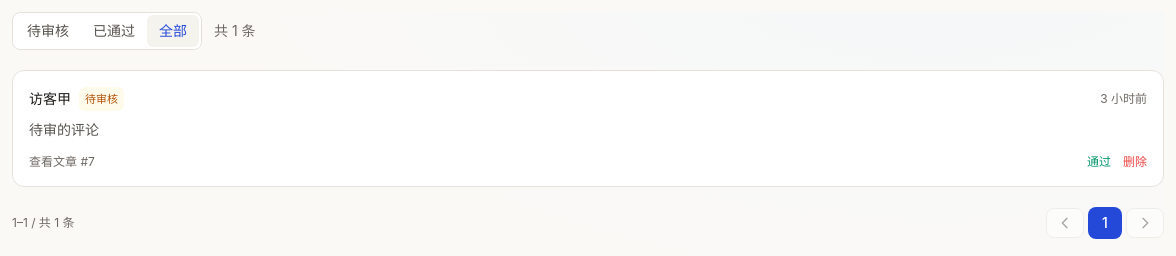
Scenario: CommentListView · 审核状态流转 › 待审 → 通过：moderate(id, true) + 「已通过」+ 刷新列表后行上变「撤下」
Click the button "通过" at (1099, 162), box [1087,154,1111,170]
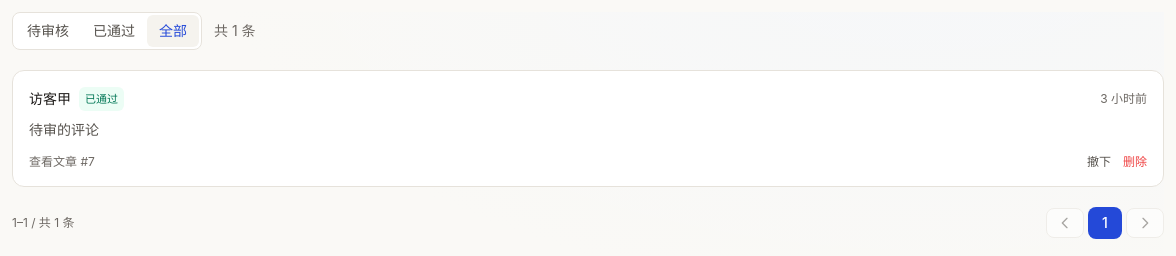
Expected: the button "已通过" is shown, [81,15,147,47]
Expected: the button "撤下" is shown, [1087,154,1111,170]
